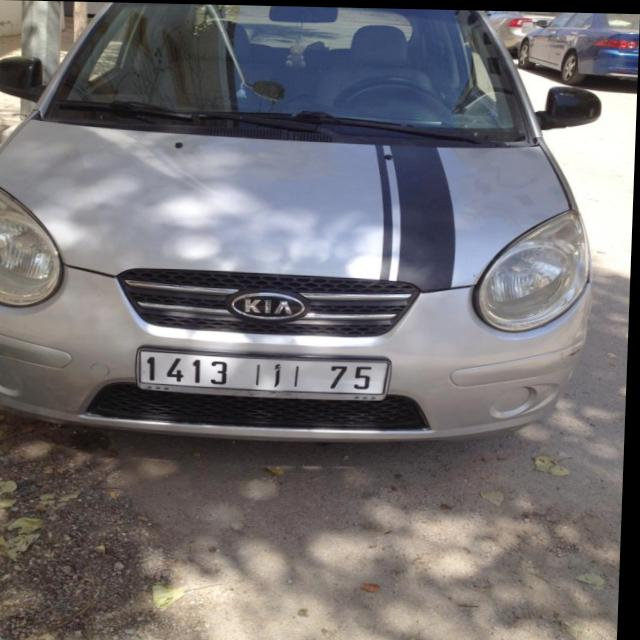License-Plate: (141, 349, 393, 397)
